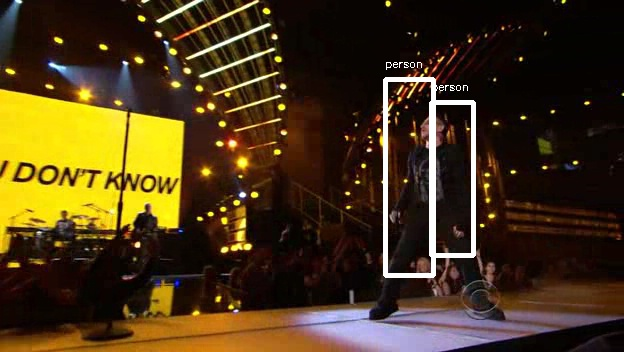person: (402, 114, 469, 234), (399, 114, 466, 234), (405, 114, 472, 234), (402, 111, 469, 231), (402, 117, 469, 237)
target_negative: (224, 107, 617, 171), (510, 203, 616, 263), (447, 23, 541, 83), (599, 45, 615, 142), (573, 226, 596, 266), (134, 91, 177, 93)
